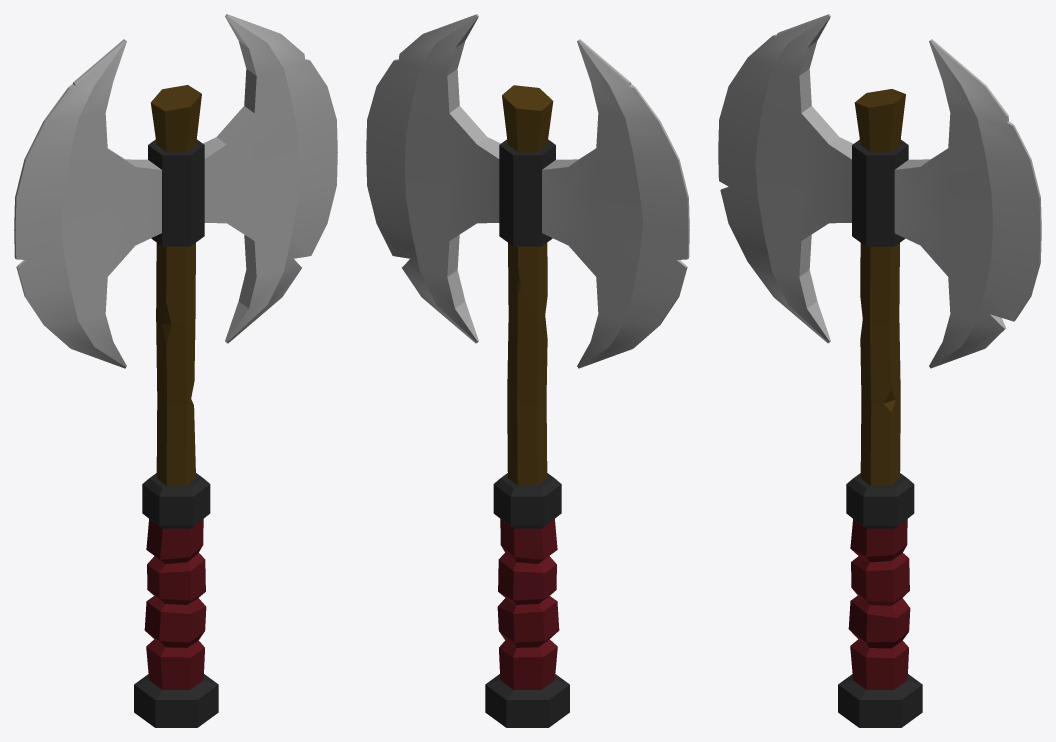
The model's file is Axe.fbx.
The picture shows the model from 3 angles, left to right: view 1: azimuth 30°, elevation 25°; view 2: azimuth 150°, elevation 25°; view 3: azimuth 330°, elevation 25°; orthographic projection.
Parts seen in each view (by area): view 1: Plane, Cylinder; view 2: Plane, Cylinder; view 3: Plane, Cylinder.
Part boxes in pixels (box(x1,y1,x2,y2)): Plane: box(14, 14, 337, 368); Cylinder: box(134, 85, 218, 727); Plane: box(366, 14, 689, 368); Cylinder: box(485, 85, 569, 727); Plane: box(718, 14, 1041, 368); Cylinder: box(838, 89, 922, 727).
Size of the model in its own units: 201 by 413 by 45.73.
